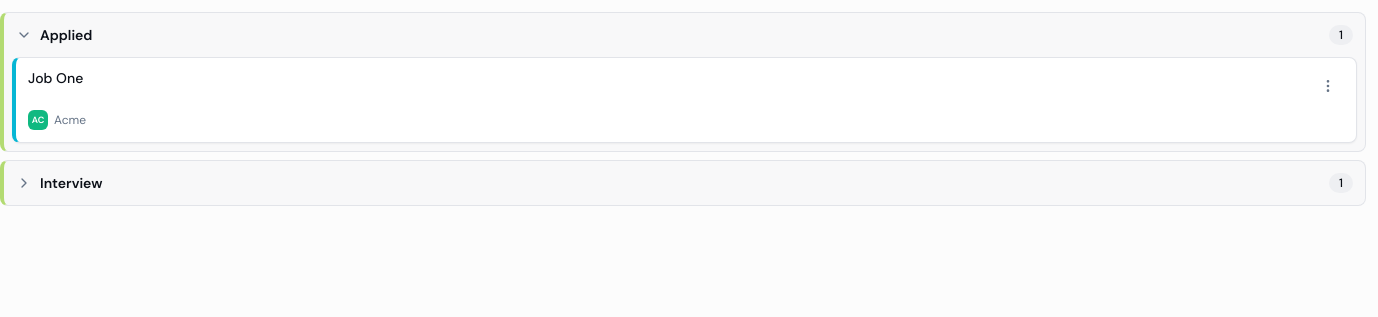
Test case: JobMobileAccordion › expands a collapsed stage when its header is tapped
The image size is (1378, 317).
Click the button "Interview 1" at (71, 183), box [4,161,1365,205]
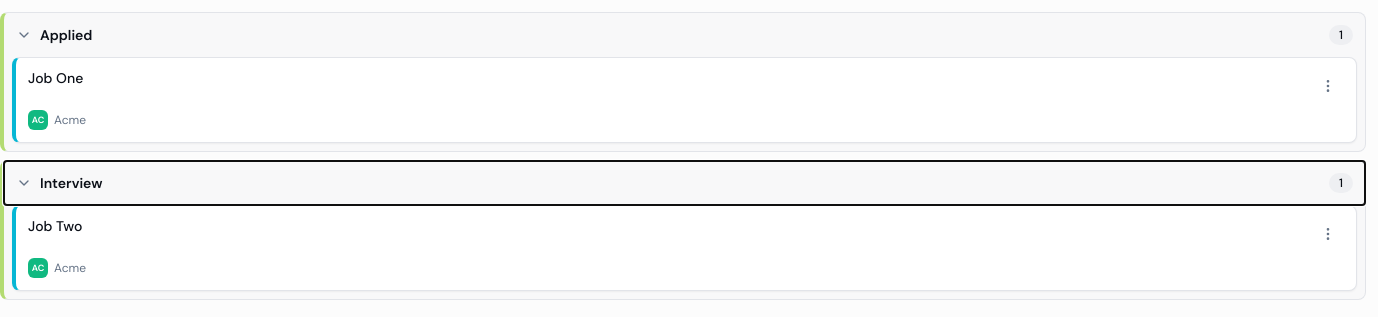
expect the button "Interview 1" is expanded: met, box [4,161,1365,205]
expect the heading "Job Two" is shown: met, box [28,218,82,236]
